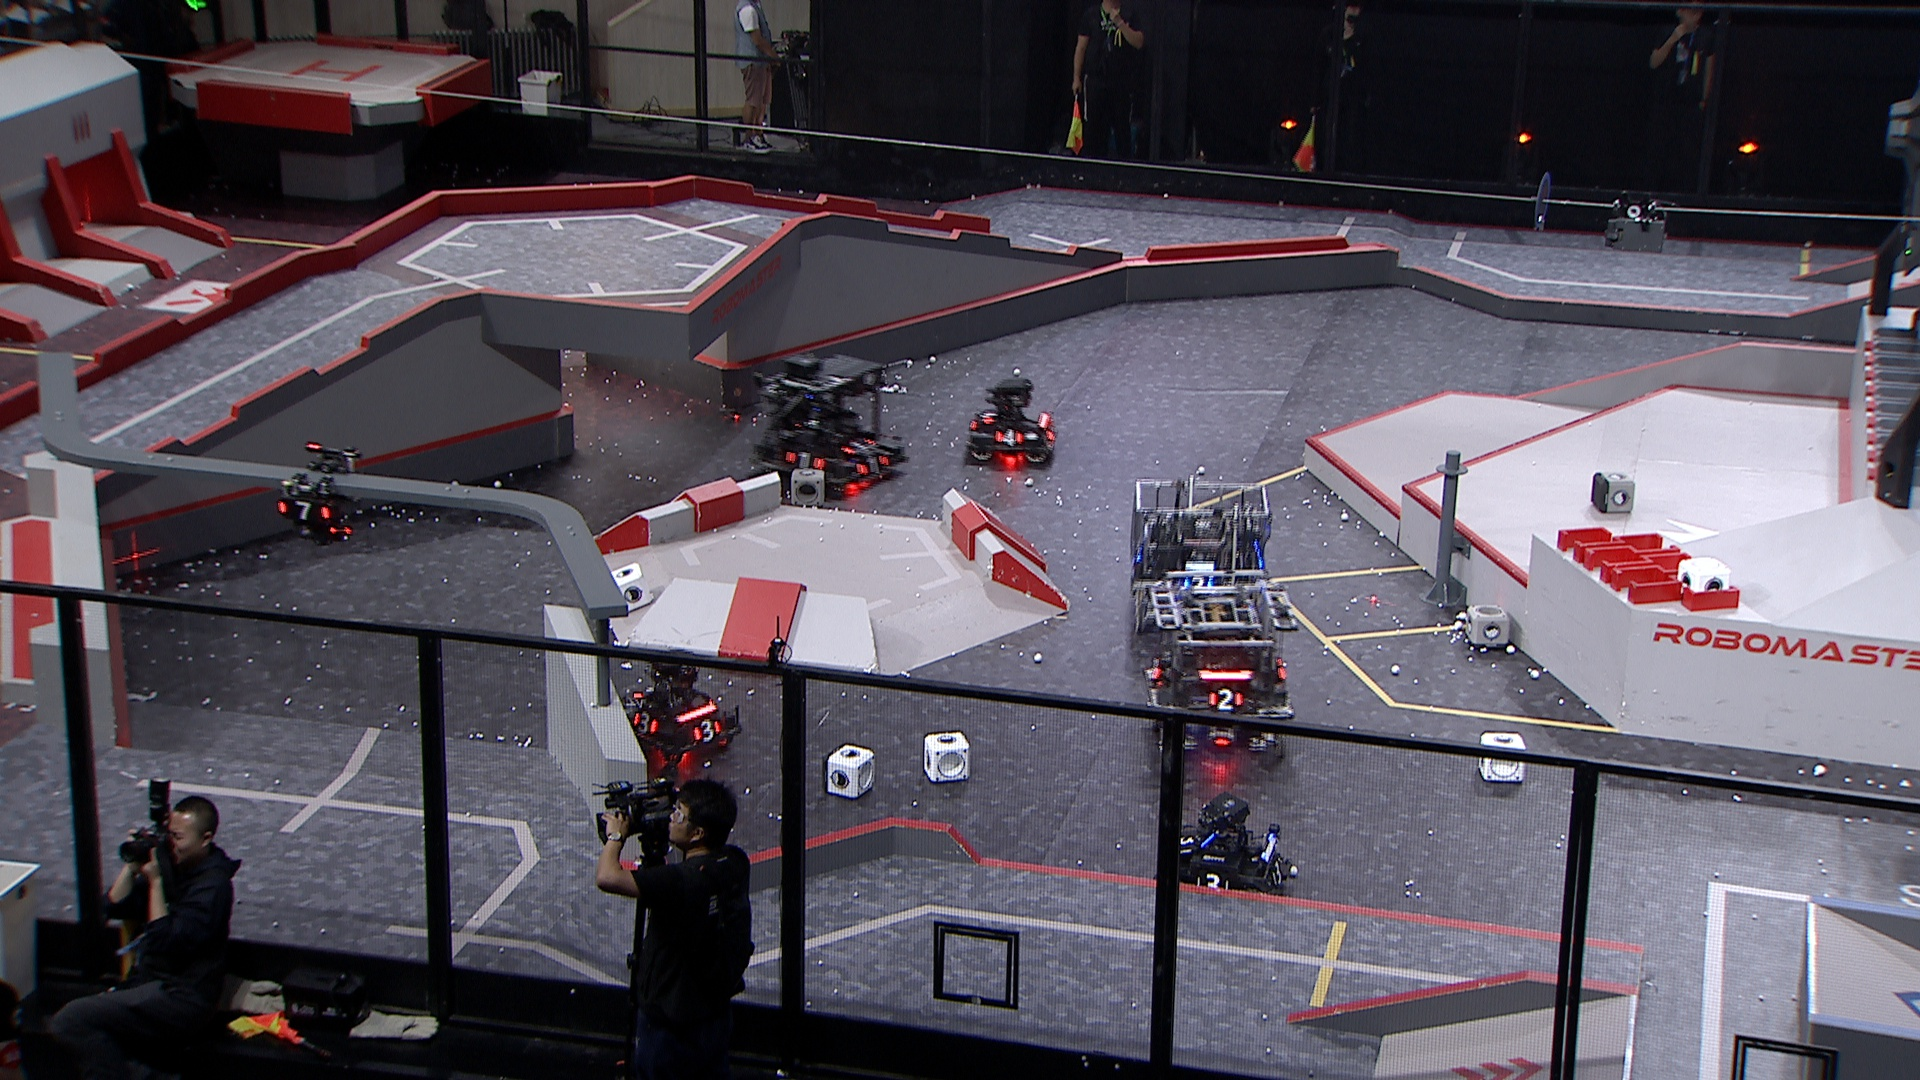armor: (277, 498, 330, 524), (785, 450, 825, 473), (692, 717, 723, 746), (1207, 687, 1244, 711), (839, 436, 877, 458), (1195, 872, 1233, 891), (632, 712, 659, 737), (993, 427, 1025, 448), (855, 456, 885, 476), (1179, 831, 1201, 856), (1182, 575, 1215, 591), (1147, 655, 1164, 680), (1269, 858, 1283, 887), (978, 410, 1000, 425)
car: (1143, 568, 1300, 764), (754, 349, 910, 491), (1129, 473, 1276, 616), (1155, 789, 1294, 913), (615, 651, 741, 766), (964, 380, 1062, 469)
watcher: (276, 439, 363, 545)
